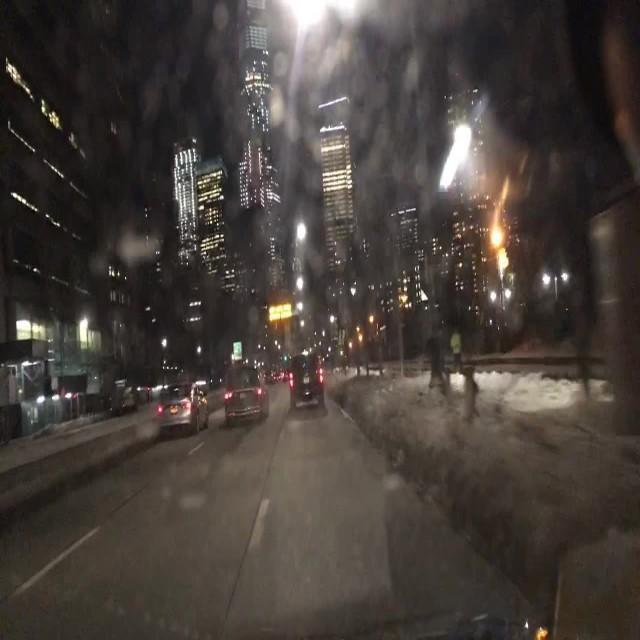normal: (140, 333, 334, 446)
